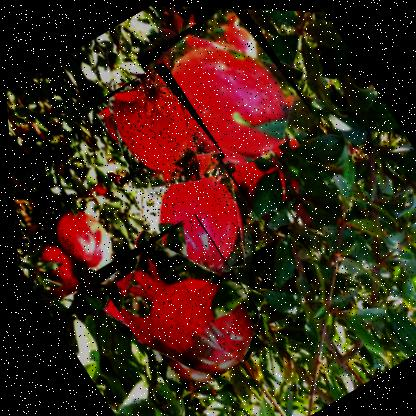pomegranate: (83, 205, 277, 402), (131, 4, 322, 185), (112, 126, 274, 292), (85, 57, 226, 201)
